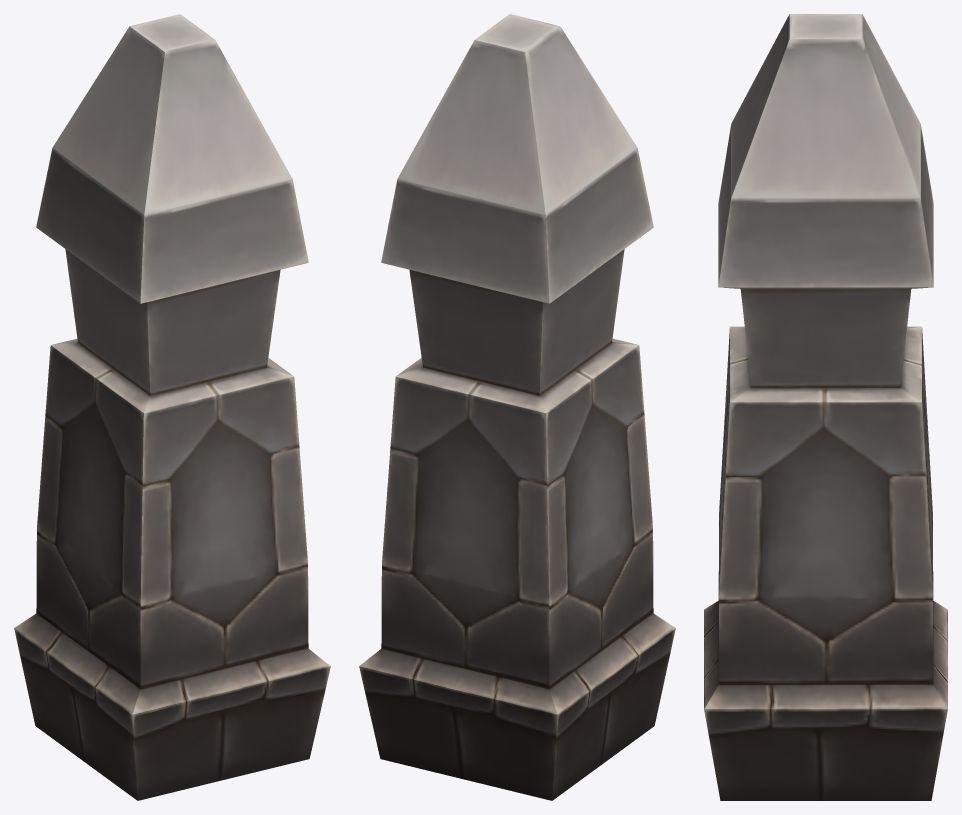
File: Dwarf_Village_Props_15.FBX
3 renders of one model, left to right at view 1: azimuth 30°, elevation 25°; view 2: azimuth 150°, elevation 25°; view 3: azimuth 270°, elevation 25°, orthographic. The views are drawn at different scales.
Parts seen in each view (by area): view 1: Dwarf_Village_Props_15; view 2: Dwarf_Village_Props_15; view 3: Dwarf_Village_Props_15.
Part boxes in pixels (x1,y1,x2,y2): Dwarf_Village_Props_15: [14, 14, 330, 800]; Dwarf_Village_Props_15: [359, 14, 675, 800]; Dwarf_Village_Props_15: [704, 14, 947, 800].
Bounding box in the file's own units: 145 × 494 × 149.
